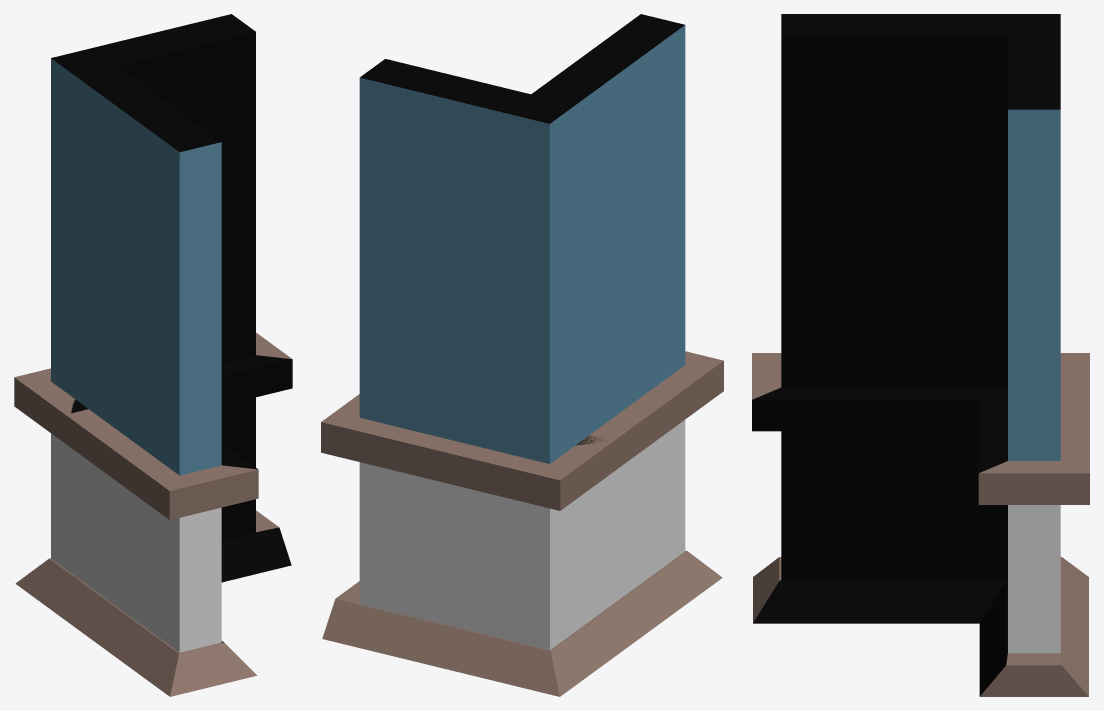
Rendered from coin 3.fbx.
3 renders of one model, left to right at view 1: azimuth 30°, elevation 25°; view 2: azimuth 150°, elevation 25°; view 3: azimuth 270°, elevation 25°, orthographic. The views are drawn at different scales.
Parts seen in each view (by area): view 1: coin_3; view 2: coin_3; view 3: coin_3.
Part boxes in pixels (bbox=[...]): coin_3: bbox=[14, 14, 292, 696]; coin_3: bbox=[321, 14, 723, 696]; coin_3: bbox=[752, 14, 1089, 696].
Size of the model in its own units: 1.35 by 3 by 1.6.
